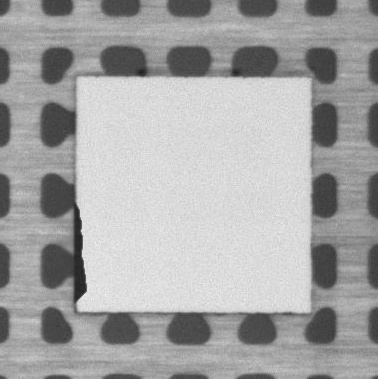DIE_BROKEN: (71, 202, 89, 303)
